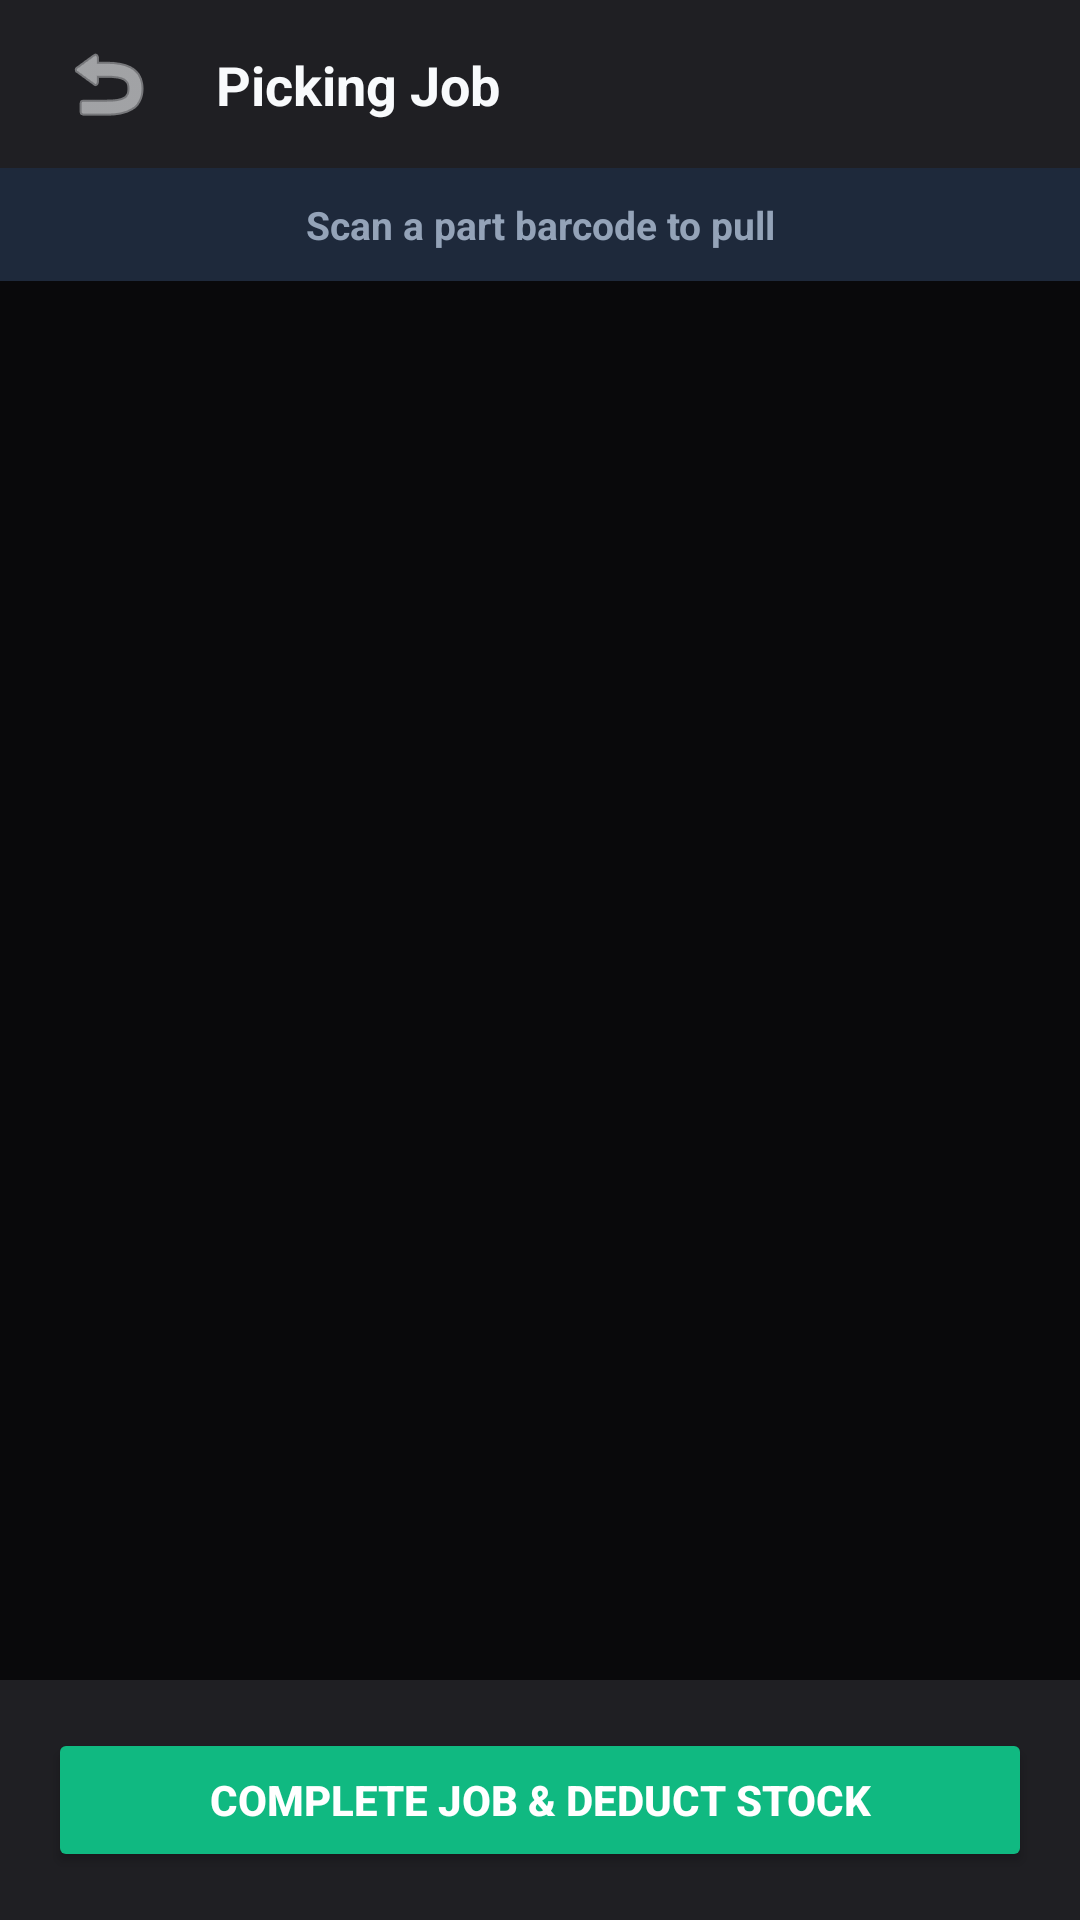

Icons on this 1080px×1920px Android screen, each with the point to tap as (x,y):
Back: (109,84)
